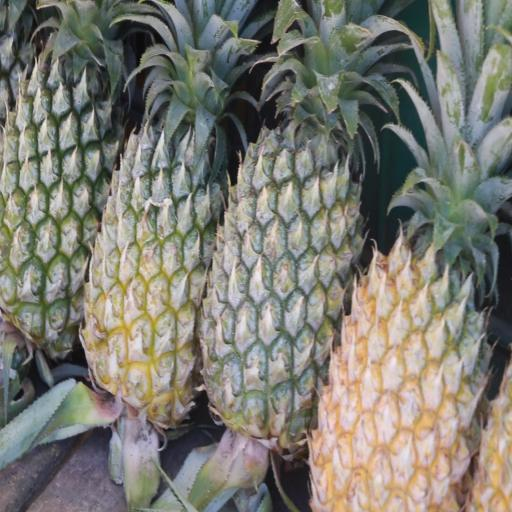------------------------------: (76, 0, 230, 437)
Pineapple - v8 v1: (308, 27, 497, 512)
